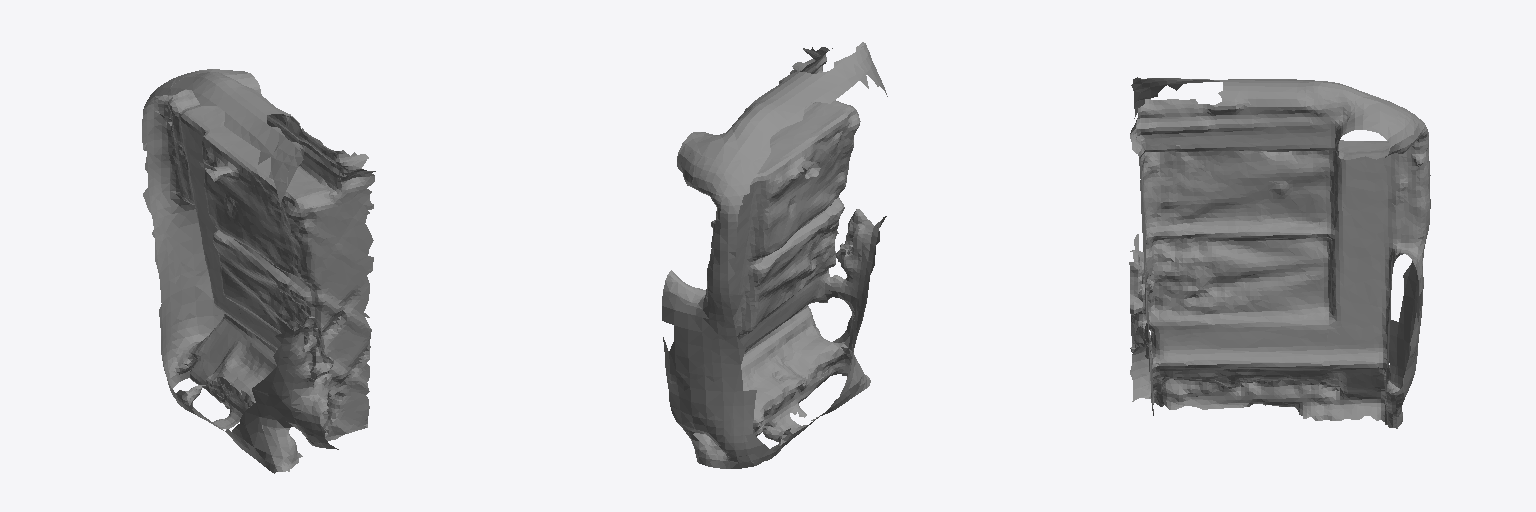
The model's file is GLASSDOOR.obj.
3 views of the same model, side by side, from view 1: azimuth 30°, elevation 25°; view 2: azimuth 150°, elevation 25°; view 3: azimuth 270°, elevation 25° (orthographic).
Visible parts, largest first — view 1: default; view 2: default; view 3: default.
Part boxes in pixels (bbox=[...]): default: bbox=[142, 69, 375, 473]; default: bbox=[662, 42, 887, 468]; default: bbox=[1129, 77, 1430, 428].
Size of the model in its own units: 1.26 by 4.06 by 3.31.